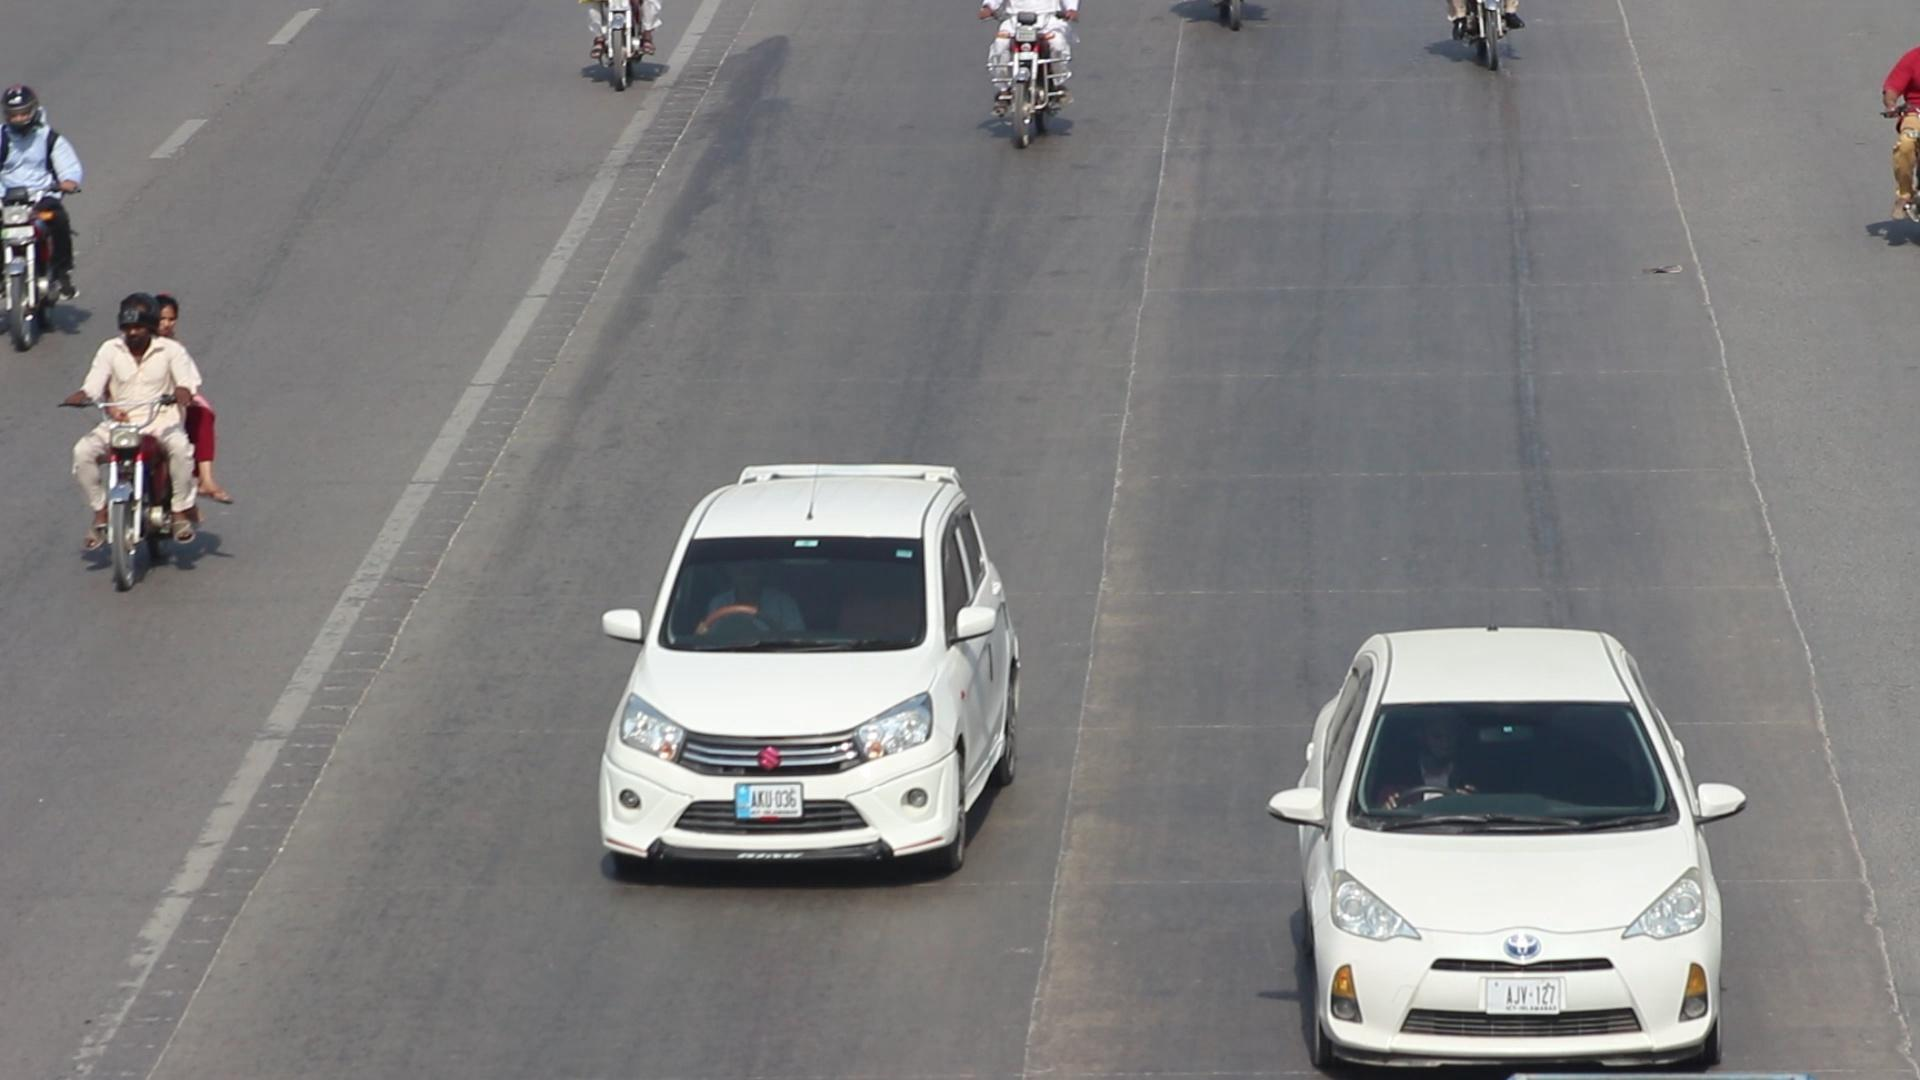windshield: (1350, 700, 1684, 827), (647, 530, 931, 650)
